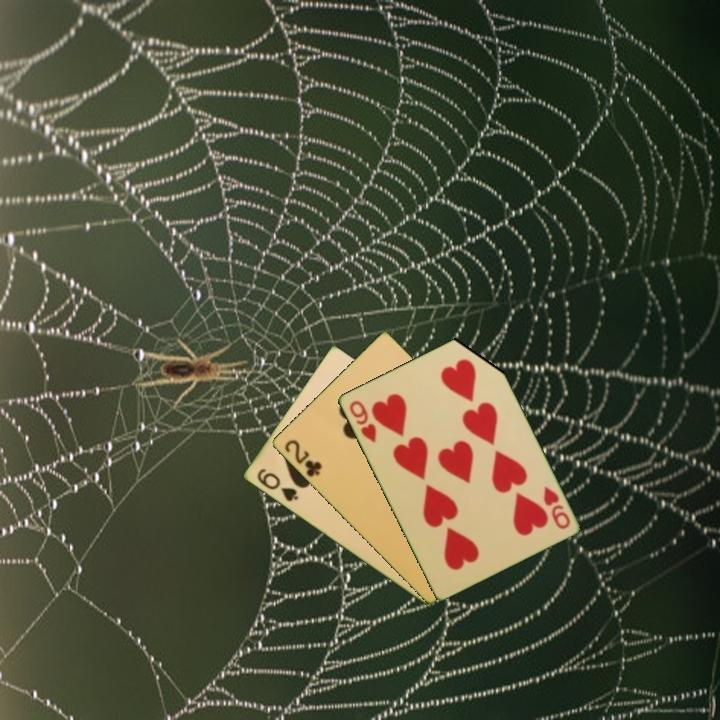2c: (280, 436, 324, 480)
6s: (253, 465, 301, 505)
9h: (539, 483, 573, 532), (346, 397, 379, 446)
